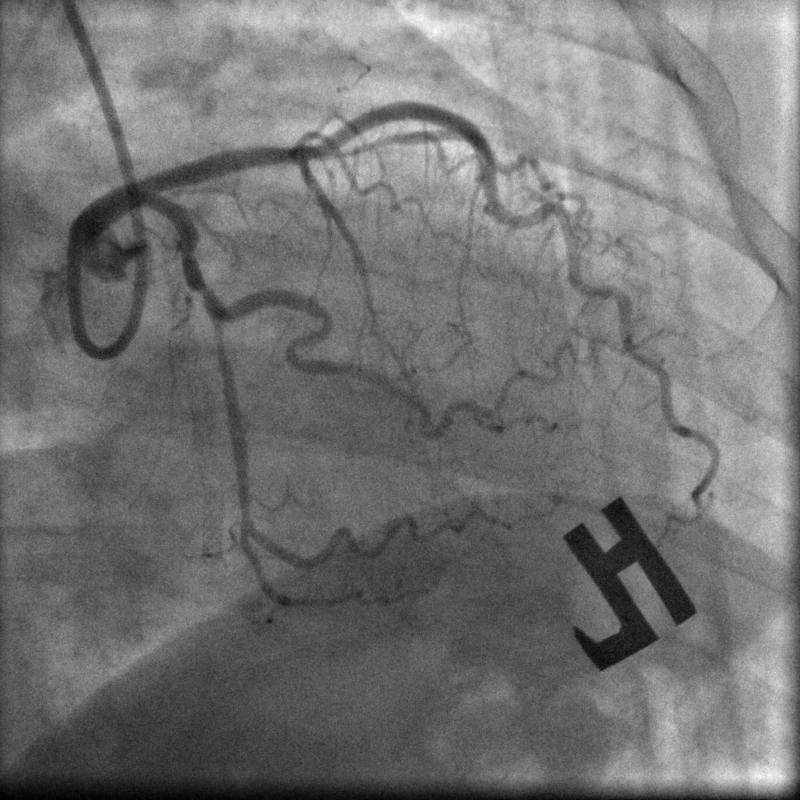Stenosis: (170, 233, 222, 304)
